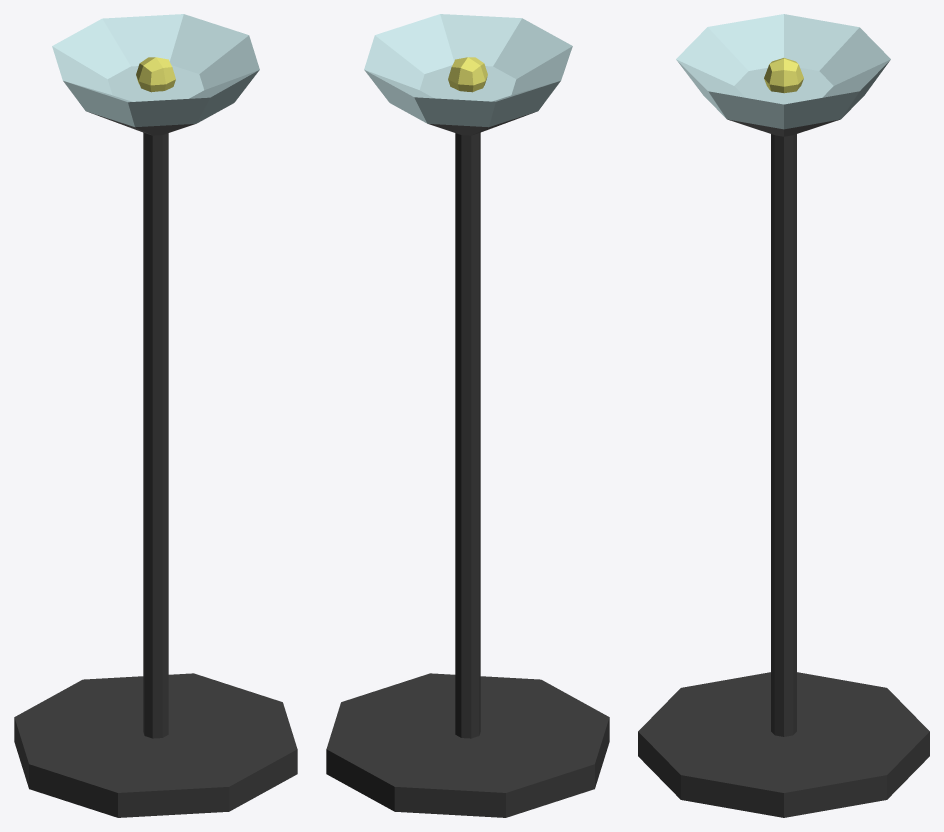
File: Lamp.fbx
3 views of the same model, side by side, from view 1: azimuth 30°, elevation 25°; view 2: azimuth 150°, elevation 25°; view 3: azimuth 270°, elevation 25° (orthographic).
Parts seen in each view (by area): view 1: Lamp, LampRim, LampBulb; view 2: Lamp, LampRim, LampBulb; view 3: Lamp, LampRim, LampBulb.
Part boxes in pixels (x1,y1,x2,y2): Lamp: (14,112,297,817); LampRim: (52,14,259,127); LampBulb: (136,57,175,92); Lamp: (326,112,609,817); LampRim: (364,14,572,127); LampBulb: (448,57,487,92); Lamp: (638,119,929,817); LampRim: (676,14,890,129); LampBulb: (764,58,803,93).
Bounding box in the file's own units: 100 × 264 × 100.
